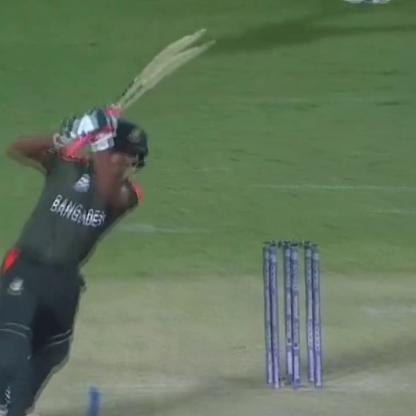bat: (116, 22, 220, 132)
